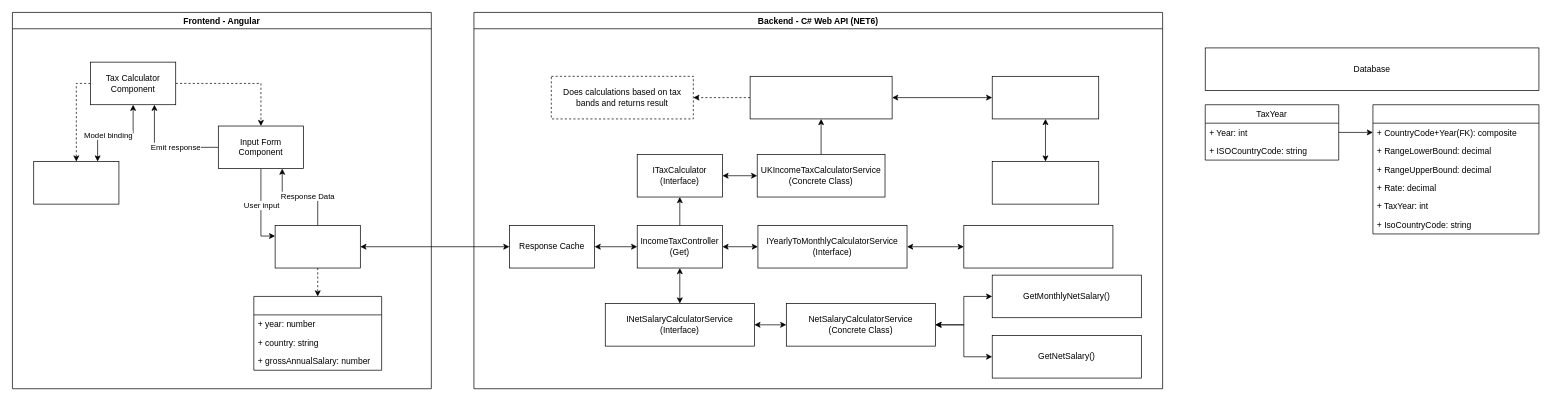
Some shapes in this 1551 by 401 pixel diagram are drawn without their labels. Here are the shapes that lost their labels. From the top down, the box of each, then its label:
(749, 76, 892, 119): GetTaxForGrossAmountAsync()
(992, 76, 1099, 119): IRepository<TaxBand>
(33, 161, 119, 204): Data Output Component
(992, 161, 1099, 204): EFRepository<TaxBand>
(1372, 104, 1539, 234): TaxBand
(274, 225, 360, 268): Tax Calculator Service
(963, 225, 1113, 268): YearlyToMonthlyCalculatorService (Concrete Class)
(253, 296, 382, 370): TaxCalculationRequest
